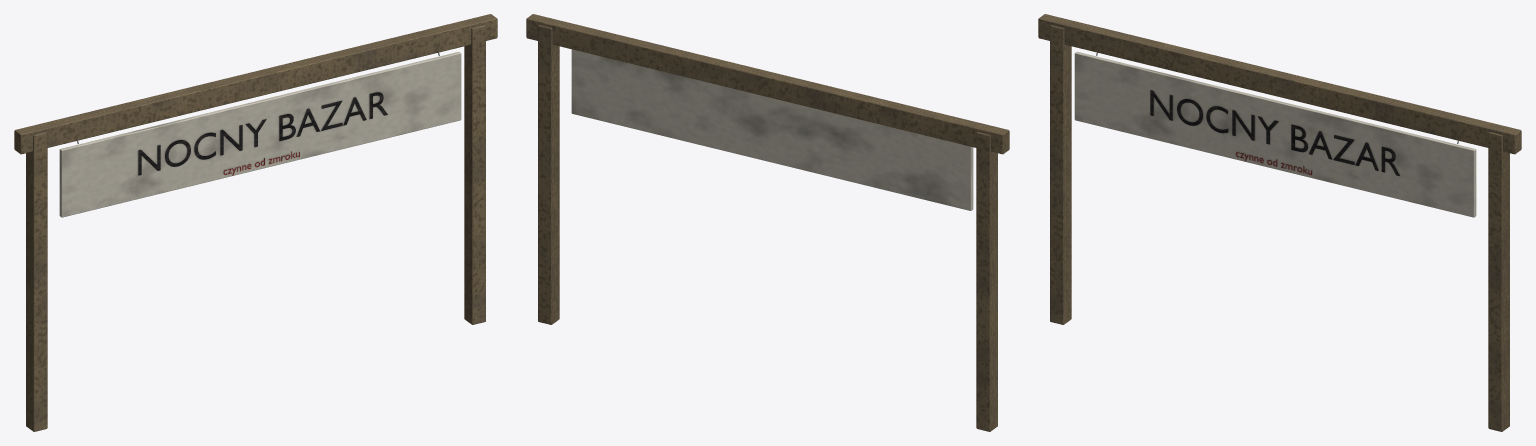
File: bazar_brama.glb
3 views of the same model, side by side, from view 1: azimuth 30°, elevation 25°; view 2: azimuth 150°, elevation 25°; view 3: azimuth 330°, elevation 25° (orthographic).
Visible parts, largest first — view 1: Brama, Napisy; view 2: Brama; view 3: Brama, Napisy.
Boxes of the visible parts, x1,y1,x2,y2 form: Brama: (14,14,497,431); Napisy: (138,92,387,175); Brama: (526,14,1009,431); Brama: (1038,14,1521,431); Napisy: (1150,90,1399,176).
Bounding box in the file's own units: 7.4 × 4.45 × 0.2708.
Materials: 2 (2 with a texture image).
